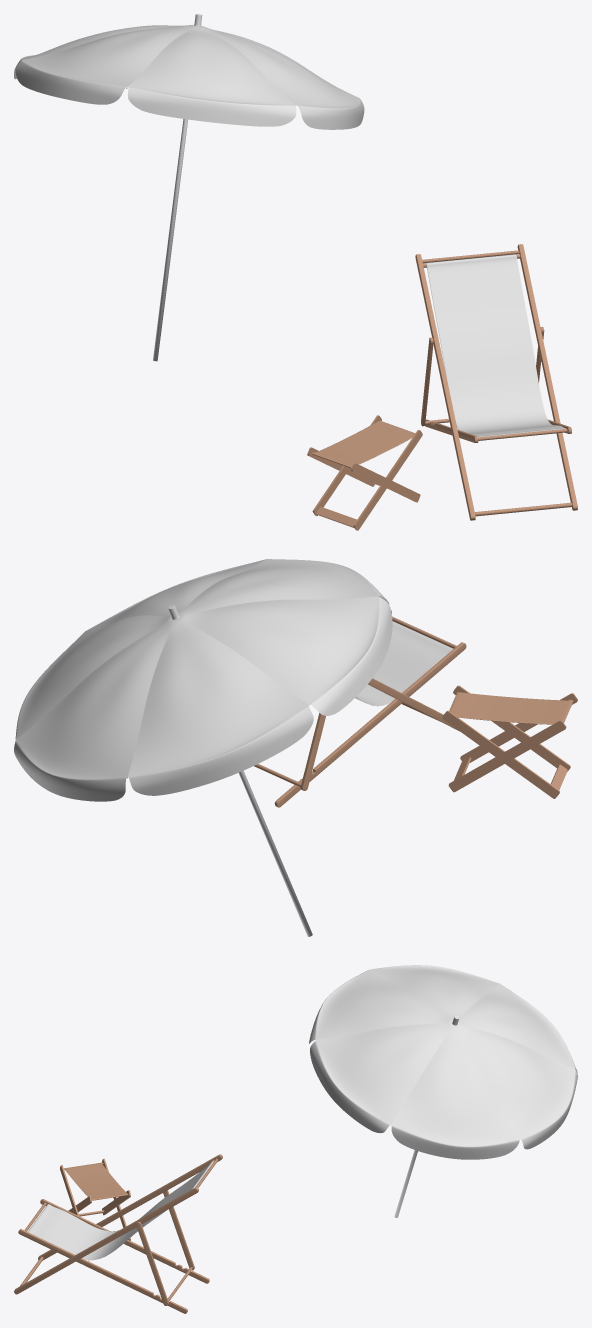
The model's file is beach_chair.glb.
3 views of the same model, one above another, from view 1: azimuth 30°, elevation 25°; view 2: azimuth 150°, elevation 25°; view 3: azimuth 270°, elevation 25° (orthographic). The views are drawn at different scales.
Visible parts, largest first — view 1: Circle.002, Plane.010, Plane.008, Plane.005, Plane.006, Cylinder.002; view 2: Circle.002, Plane.005, Plane.008, Plane.010, Plane.006, Cylinder.002; view 3: Circle.002, Plane.008, Plane.010, Plane.006, Plane.005.
Part boxes in pixels (x1=…): Circle.002: x1=14, y1=14, x2=364, y2=129; Plane.010: x1=426, y1=254, x2=565, y2=437; Plane.008: x1=415, y1=244, x2=577, y2=520; Plane.005: x1=307, y1=415, x2=422, y2=530; Plane.006: x1=313, y1=420, x2=415, y2=468; Cylinder.002: x1=126, y1=87, x2=187, y2=361; Circle.002: x1=14, y1=559, x2=392, y2=801; Plane.005: x1=442, y1=685, x2=577, y2=798; Plane.008: x1=254, y1=610, x2=466, y2=807; Plane.010: x1=355, y1=621, x2=452, y2=706; Plane.006: x1=449, y1=692, x2=572, y2=724; Cylinder.002: x1=127, y1=771, x2=312, y2=936; Circle.002: x1=309, y1=965, x2=577, y2=1159; Plane.008: x1=14, y1=1154, x2=222, y2=1313; Plane.010: x1=28, y1=1161, x2=213, y2=1260; Plane.006: x1=64, y1=1162, x2=127, y2=1200; Plane.005: x1=60, y1=1158, x2=130, y2=1240.
Bounding box in the file's own units: 2.26 × 2.1 × 4.42.
